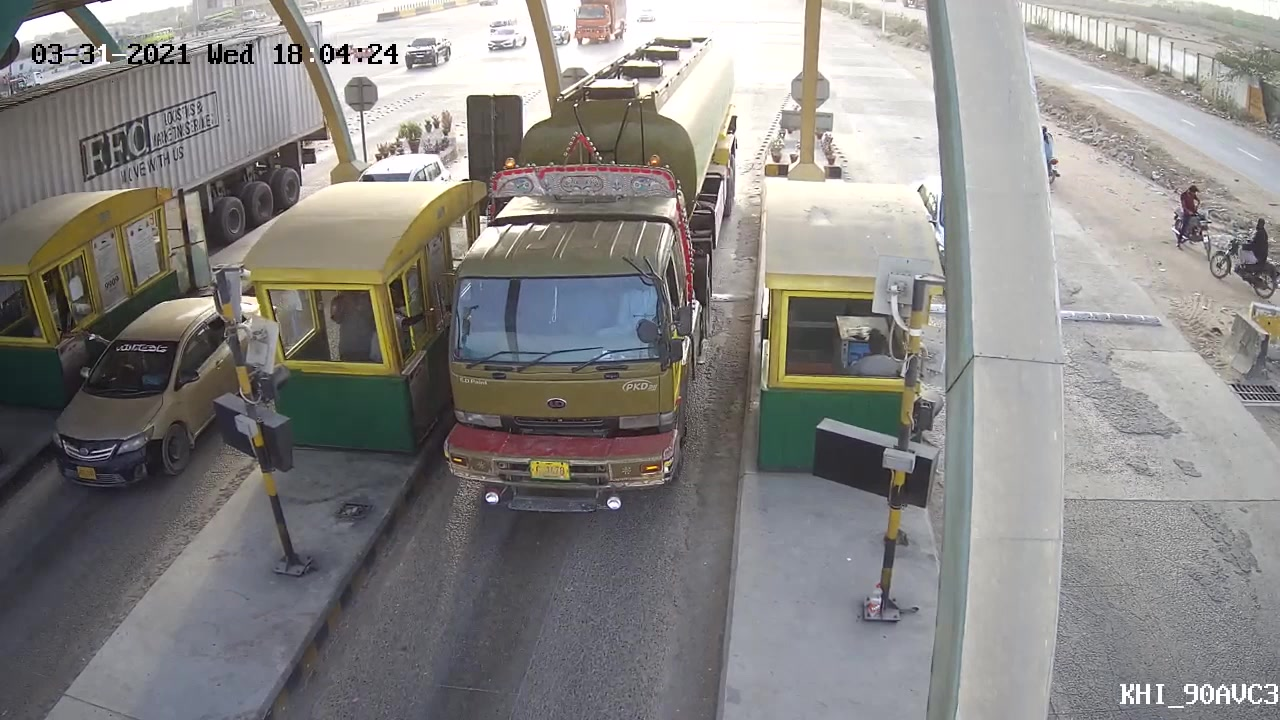F6: (429, 60, 745, 523)
